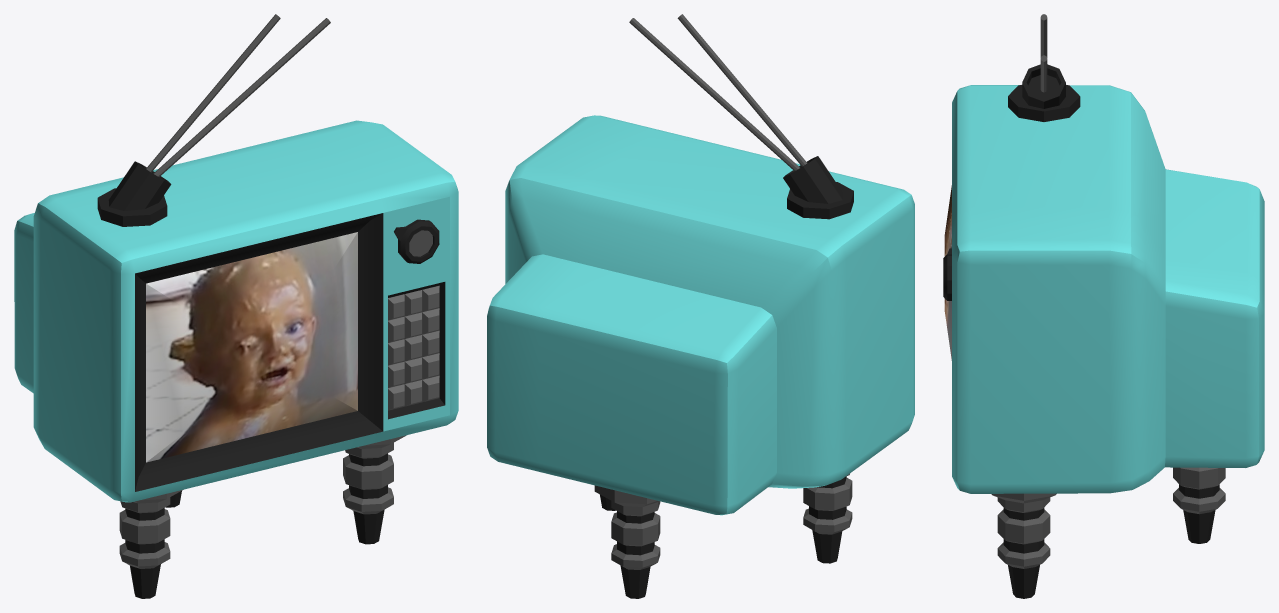
Rendered from babyRobo.fbx.
3 renders of one model, left to right at view 1: azimuth 30°, elevation 25°; view 2: azimuth 150°, elevation 25°; view 3: azimuth 270°, elevation 25°, orthographic. The views are drawn at different scales.
Visible parts, largest first — view 1: pbBabyRobo; view 2: pbBabyRobo; view 3: pbBabyRobo.
Part boxes in pixels (x1,y1,x2,y2): pbBabyRobo: (14,14,458,598); pbBabyRobo: (487,14,914,598); pbBabyRobo: (943,14,1264,598).
Size of the model in its own units: 27.07 by 40.09 by 21.6.
Materials: 6 (1 with a texture image).
